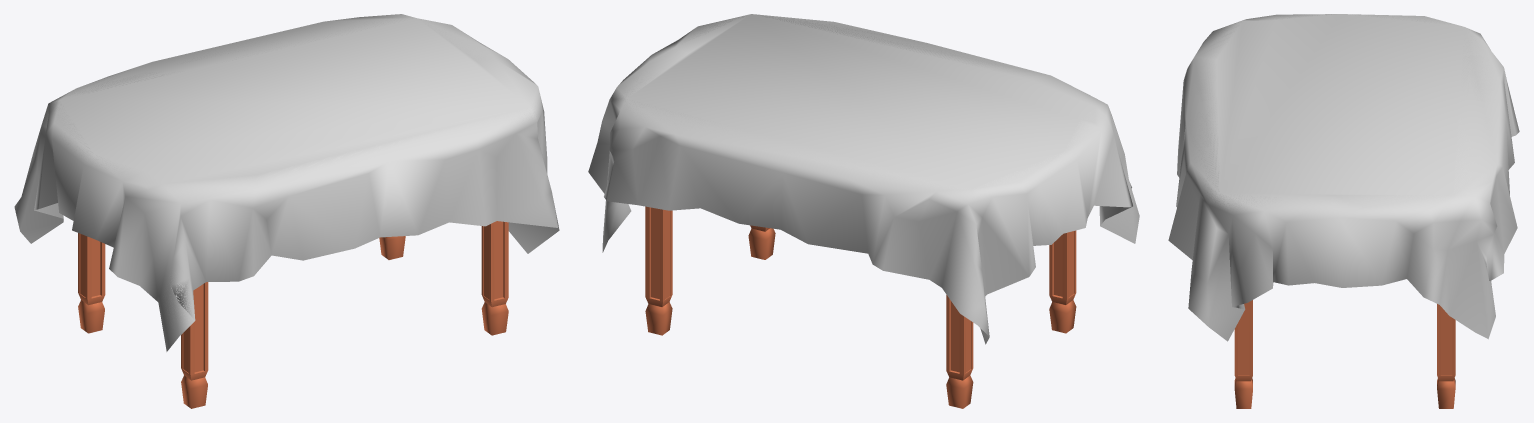
File: table 1.fbx
The picture shows the model from 3 angles, left to right: view 1: azimuth 30°, elevation 25°; view 2: azimuth 150°, elevation 25°; view 3: azimuth 270°, elevation 25°; orthographic projection.
Parts seen in each view (by area): view 1: Plane, Plane.001, Legs; view 2: Plane, Plane.001, Legs; view 3: Plane, Plane.001, Legs.
Boxes of the visible parts, x1,y1,x2,y2 form: Plane: (14,14,559,351); Plane.001: (16,14,557,349); Legs: (78,221,508,408); Plane: (588,14,1139,344); Plane.001: (590,14,1138,342); Legs: (645,206,1076,408); Plane: (1168,14,1519,340); Plane.001: (1169,14,1518,341); Legs: (1234,300,1455,408).
Bounding box in the file's own units: 224 × 159 × 326.
